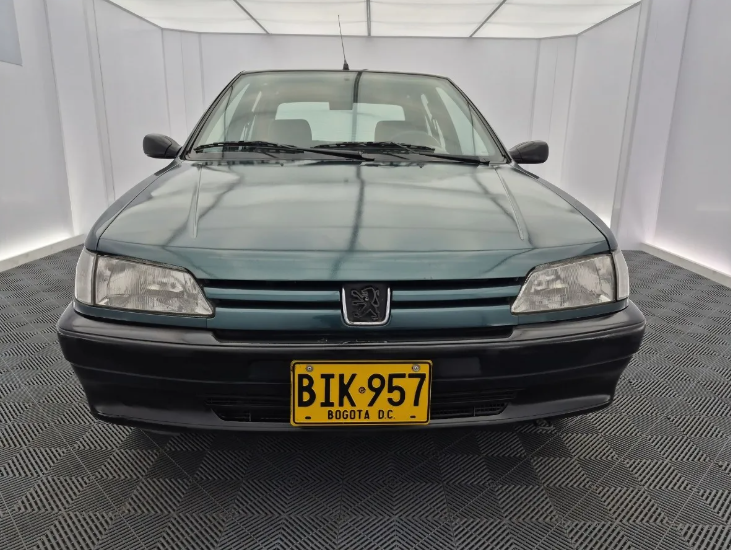placa: (290, 363, 430, 426)
